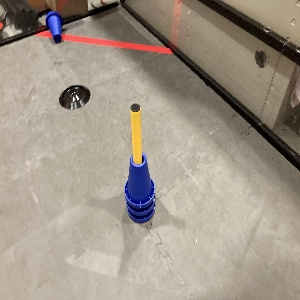Blue_3: (126, 151, 153, 222)
